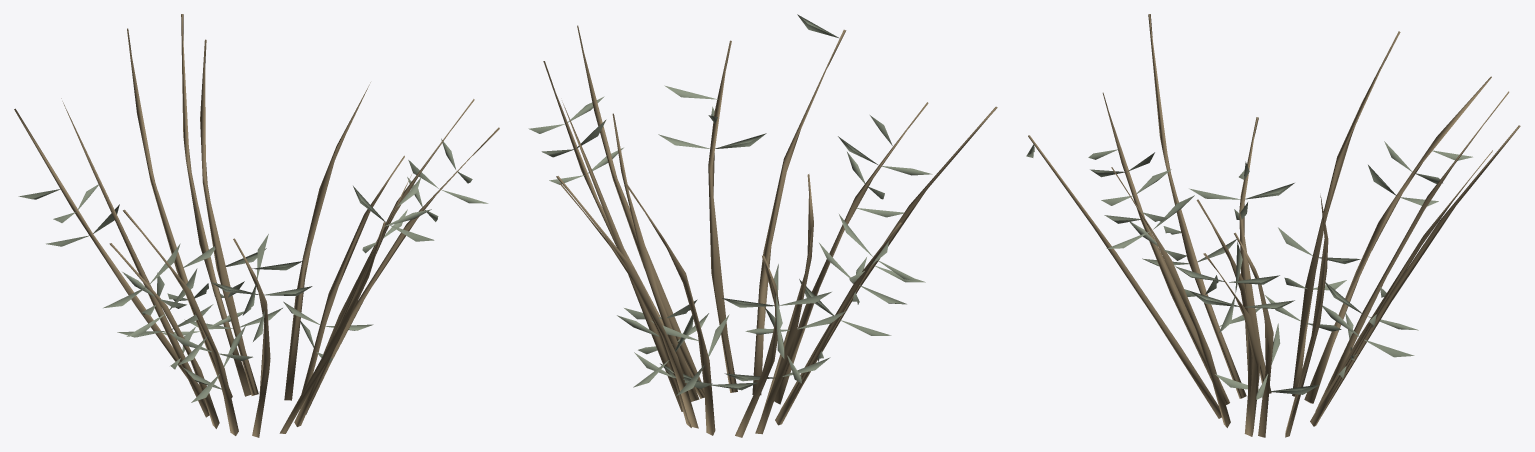
The model's file is Lavande_0_Niveau2.fbx.
3 renders of one model, left to right at view 1: azimuth 30°, elevation 25°; view 2: azimuth 150°, elevation 25°; view 3: azimuth 270°, elevation 25°, orthographic. The views are drawn at different scales.
Parts seen in each view (by area): view 1: Lavande_0_Niveau2; view 2: Lavande_0_Niveau2; view 3: Lavande_0_Niveau2.
Part boxes in pixels (x1,y1,x2,y2): Lavande_0_Niveau2: (14,14,499,437); Lavande_0_Niveau2: (528,14,997,437); Lavande_0_Niveau2: (1026,14,1520,437).
Size of the model in its own units: 44.25 by 32.31 by 45.43.
